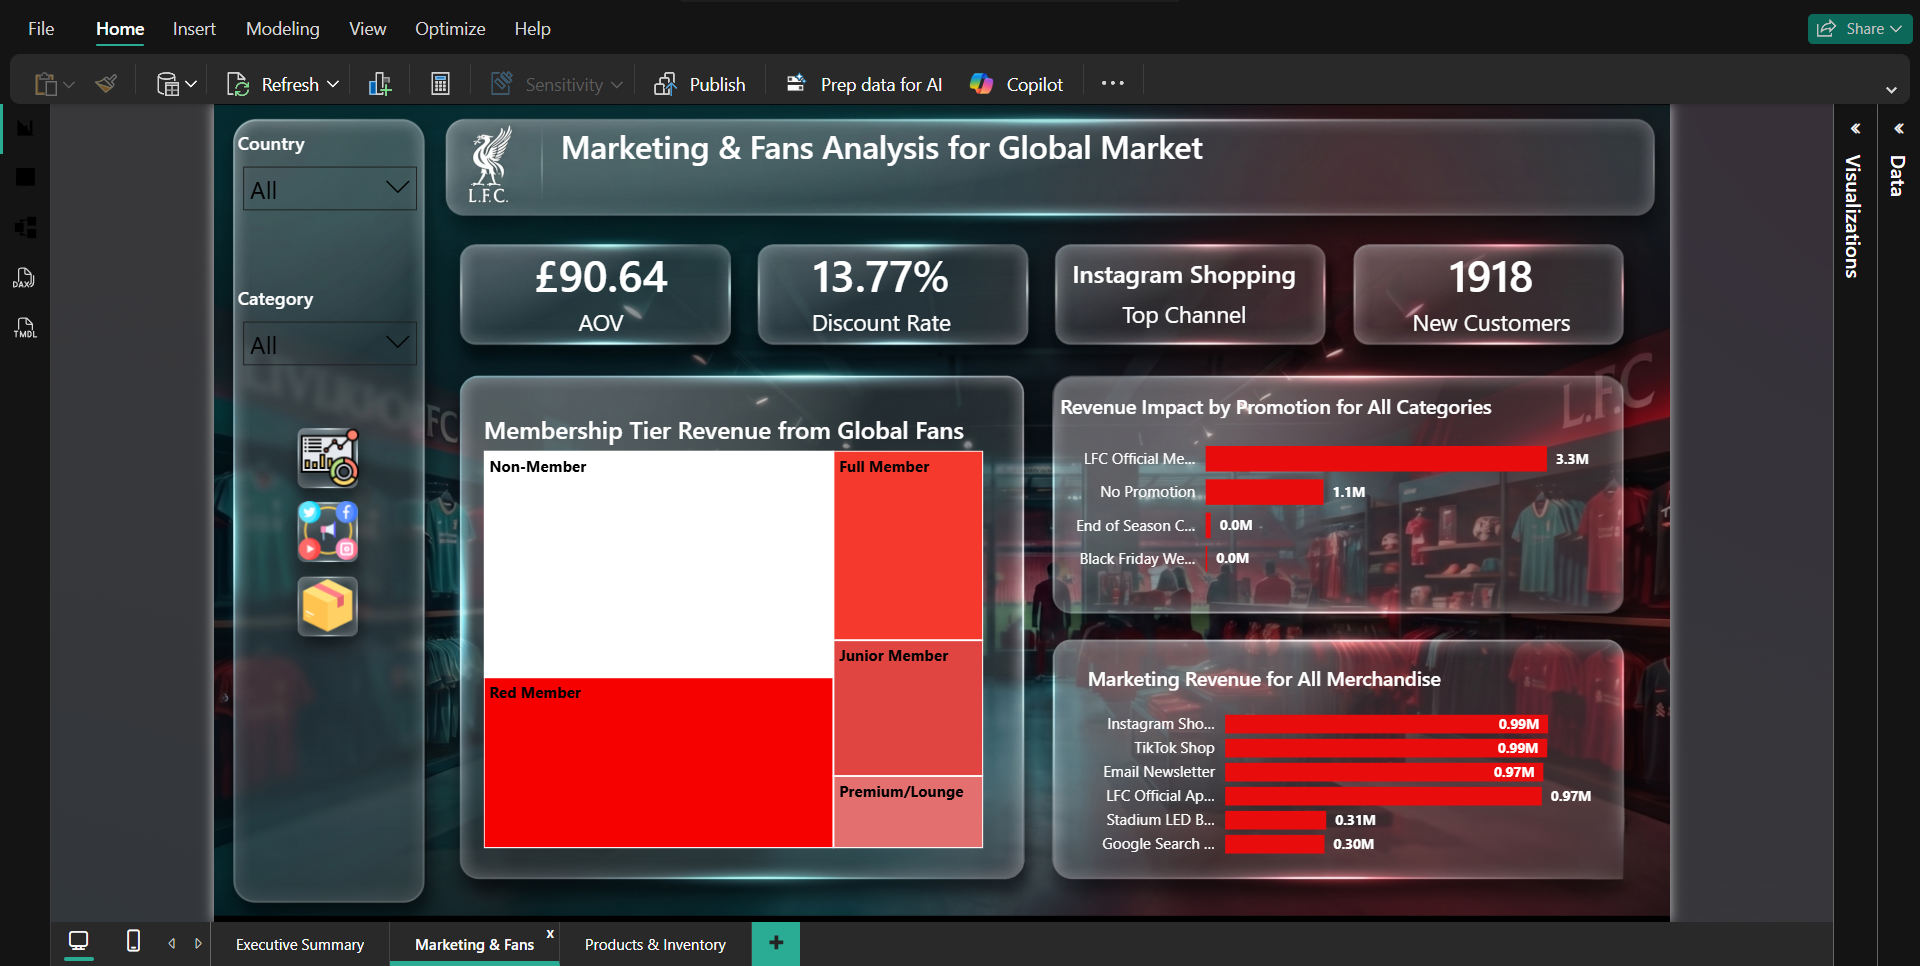

The page's visual inventory and layout, read from the dashboard file:
{"tool":"powerbi","page":{"name":"Marketing & Fans","canvas":[1280,720],"ordinal":1},"visuals":[{"type":"treemap","fields":{"Group":["Dim_Customers_v2.MembershipTier"],"Values":["_Measures.Total Revenue"]},"box":[225.3,259.5,463,407.1],"z":0},{"type":"slicer","title":"Country","fields":{"Values":["Dim_Customers_v2.Country"]},"box":[21.1,22.7,162.2,87.6],"z":1000},{"type":"textbox","box":[300.1,17.8,597,79.5],"z":2000},{"type":"card","fields":{"Values":["_Measures.Average Order Value_AOV"]},"box":[251.7,110.3,177.1,107.2],"z":3000},{"type":"card","fields":{"Values":["_Measures.New Fans"]},"box":[1022.4,110.3,202,107.2],"z":4000},{"type":"card","fields":{"Values":["_Measures.Top Channel"]},"box":[731.8,110.3,242.4,108.8],"z":5000},{"type":"card","fields":{"Values":["_Measures.Discount Rate"]},"box":[486.3,110.3,202,107.2],"z":6000},{"type":"clusteredBarChart","fields":{"Y":["Sum(Fact_Sales_v2.TotalAmount)"],"Category":["Dim_MarketingChannels_v2.ChannelName"]},"box":[756.7,481.7,467.7,198.9],"z":7000},{"type":"clusteredBarChart","fields":{"Y":["Sum(Fact_Sales_v2.TotalAmount)"],"Category":["Dim_Promotions_v2.PromoName"]},"box":[731.8,242.4,492.5,194.2],"z":8000},{"type":"slicer","title":"Category","fields":{"Values":["Dim_Products_v2.Category"]},"box":[21.1,159,162.2,82.7],"z":9000},{"type":"actionButton","box":[77.5,415.2,46,51],"z":10000},{"type":"actionButton","box":[71.4,278.4,61,65],"z":11000},{"type":"actionButton","box":[70.2,345,60,60],"z":12000}]}

Visuals, with their boxes on the page's 1280x720 design canvas (x1, y1, x2, y2). These are canvas units, not pixel positions in the 1920x966 screenshot, which may show the page scaled, cropped or inside an application window:
treemap - Dim_Customers_v2.MembershipTier x _Measures.Total Revenue: left=225, top=260, right=688, bottom=667
"Country" slicer: left=21, top=23, right=183, bottom=110
textbox: left=300, top=18, right=897, bottom=97
card - _Measures.Average Order Value_AOV: left=252, top=110, right=429, bottom=218
card - _Measures.New Fans: left=1022, top=110, right=1224, bottom=218
card - _Measures.Top Channel: left=732, top=110, right=974, bottom=219
card - _Measures.Discount Rate: left=486, top=110, right=688, bottom=218
clusteredBarChart - Sum(Fact_Sales_v2.TotalAmount) x Dim_MarketingChannels_v2.ChannelName: left=757, top=482, right=1224, bottom=681
clusteredBarChart - Sum(Fact_Sales_v2.TotalAmount) x Dim_Promotions_v2.PromoName: left=732, top=242, right=1224, bottom=437
"Category" slicer: left=21, top=159, right=183, bottom=242
actionButton: left=78, top=415, right=124, bottom=466
actionButton: left=71, top=278, right=132, bottom=343
actionButton: left=70, top=345, right=130, bottom=405
